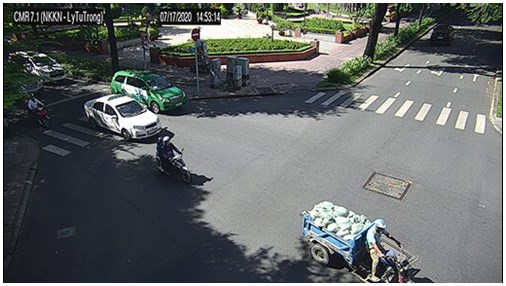xe_hoi: (84, 94, 161, 143), (9, 51, 70, 82), (3, 70, 44, 95), (430, 24, 456, 46)
xe_may: (154, 136, 192, 183), (24, 93, 52, 131)
xe_taxi: (301, 201, 419, 283), (111, 69, 188, 113)
